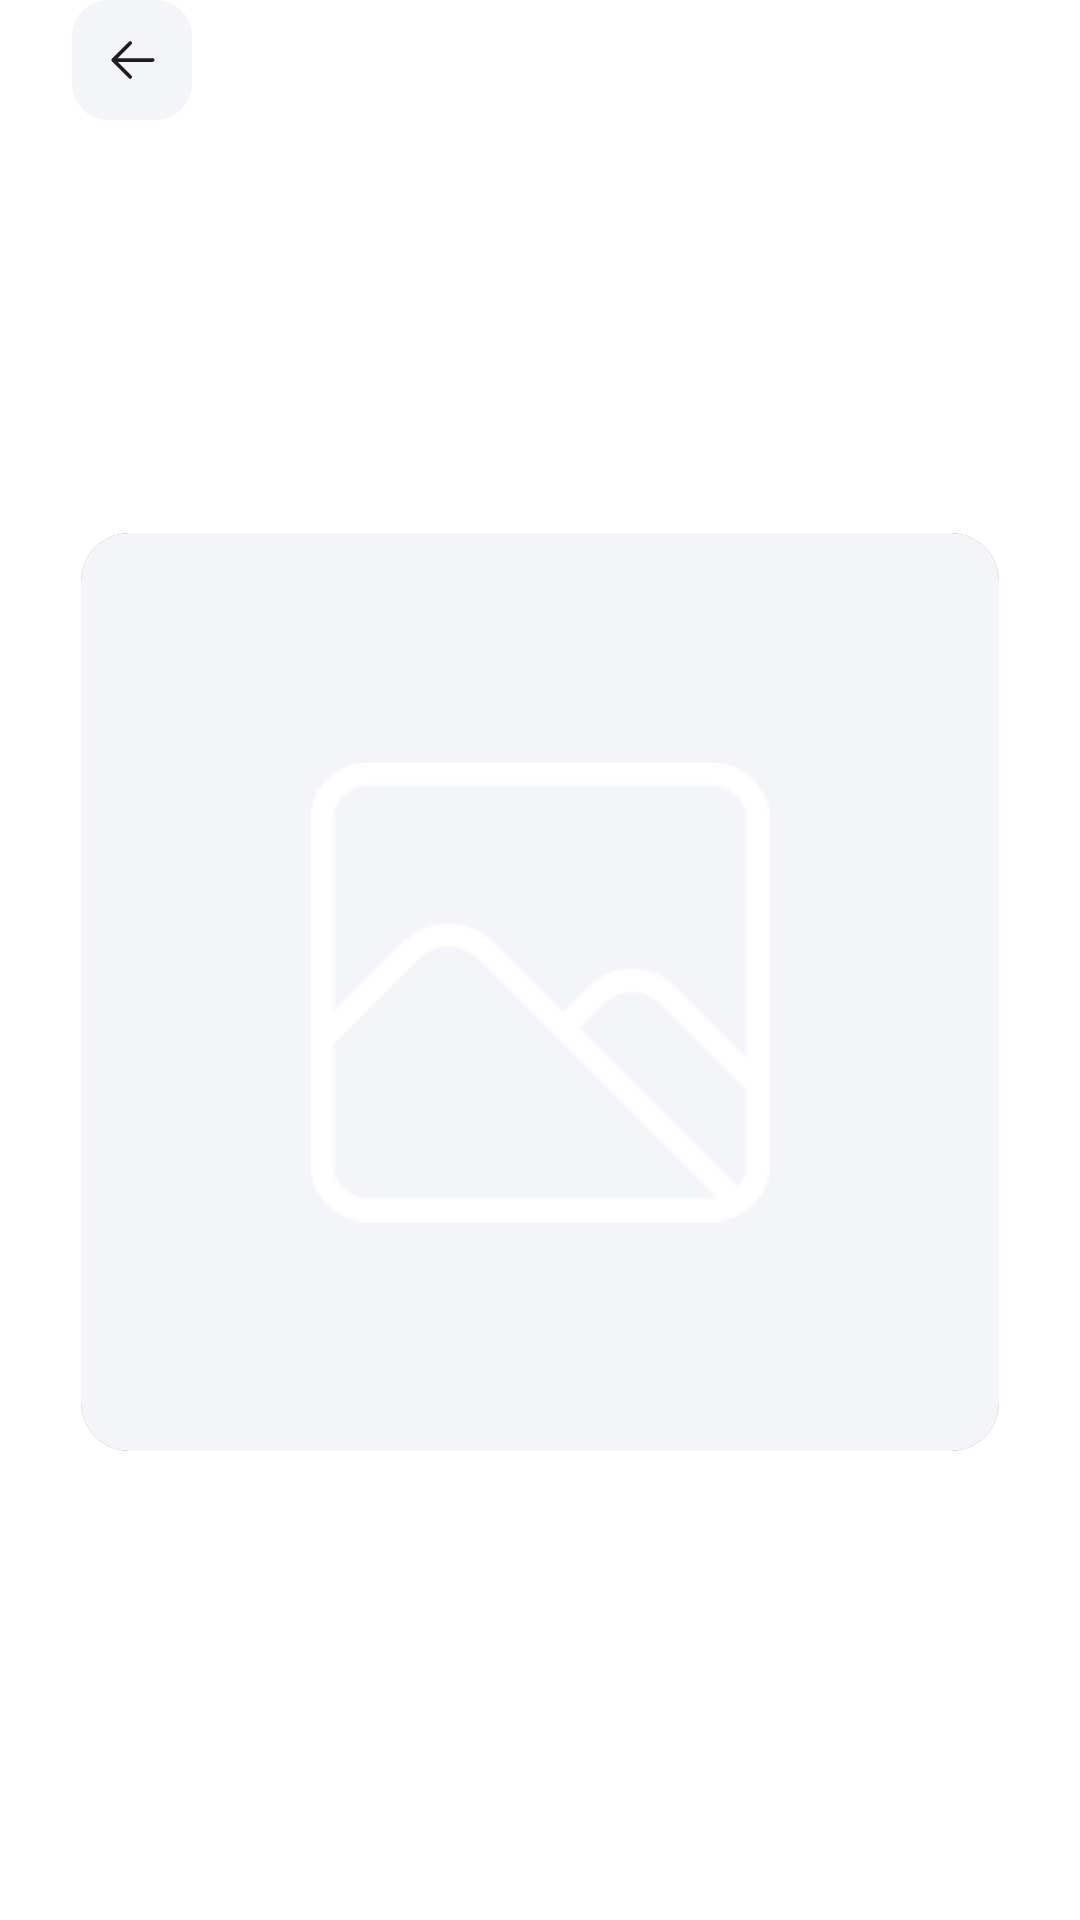

Where to tap for icons on this 1080 × 1920 app screen, as (x,y):
back: (133,60)
